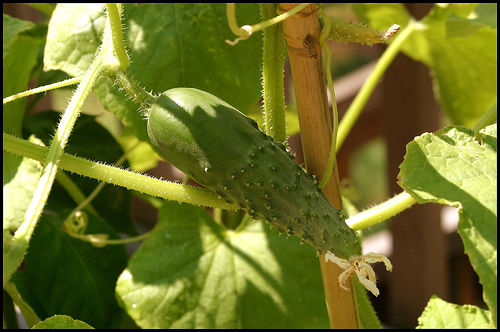cucumber: (117, 70, 383, 300)
